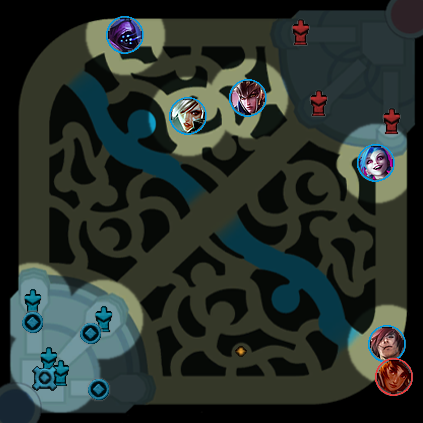Jax: (106, 16, 144, 54)
Jinx: (357, 144, 395, 182)
Quinn: (229, 79, 267, 117)
Riven: (169, 97, 207, 135)
Sett: (368, 325, 406, 363)
Taliyah: (375, 358, 413, 396)
